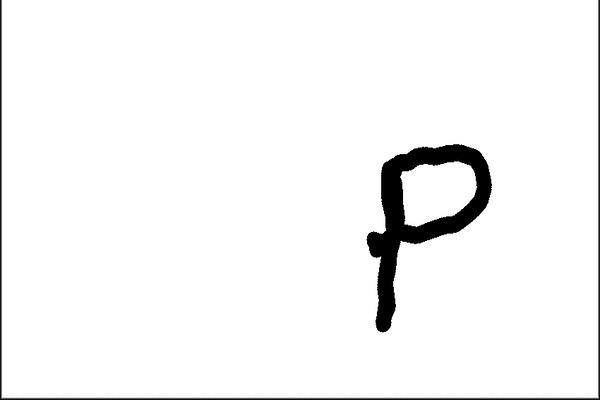P: (355, 138, 500, 336)
